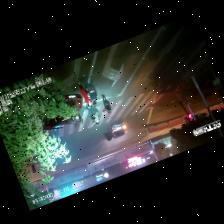person: (82, 75, 96, 104), (77, 82, 91, 106), (84, 105, 98, 124), (100, 94, 110, 113)
